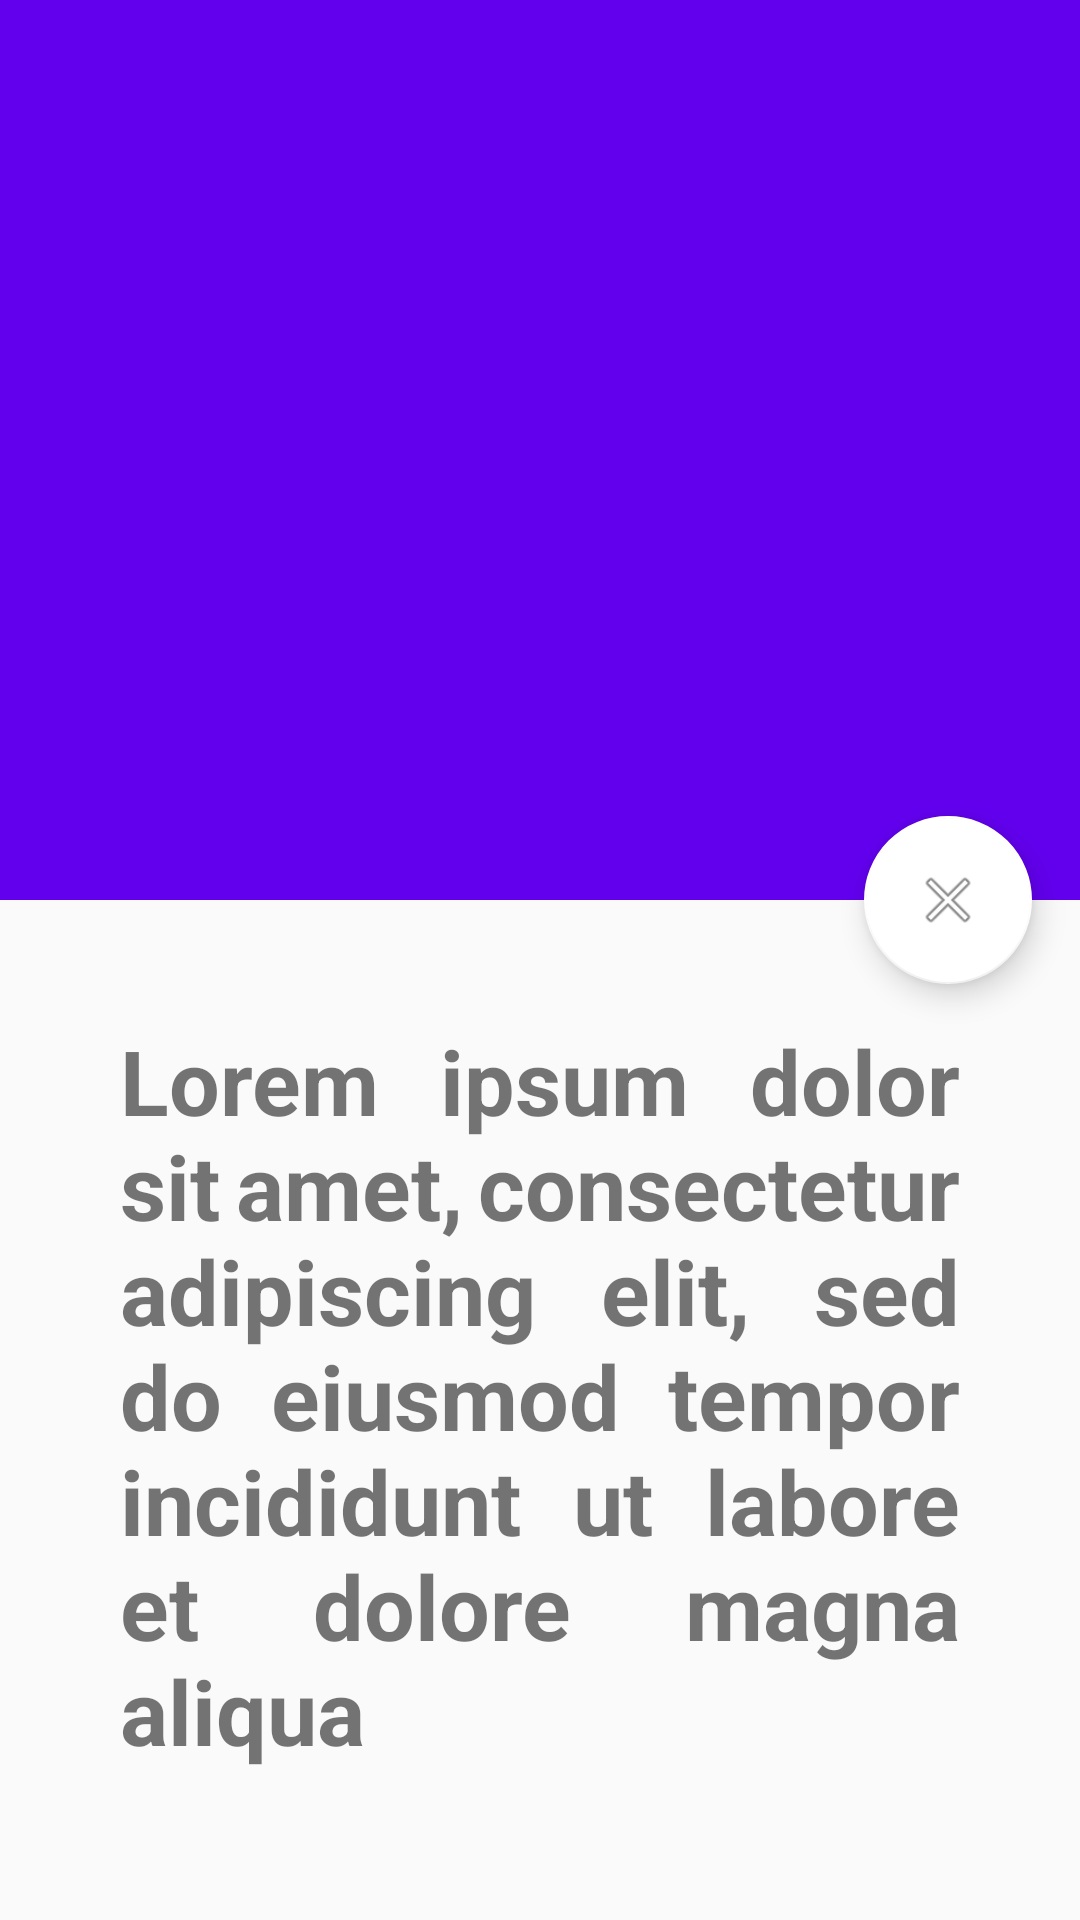

Point at icon controls on the screen. Image size 1080 x 1920, points as (x=x, y=y).
close clear cancel: (x=948, y=900)
